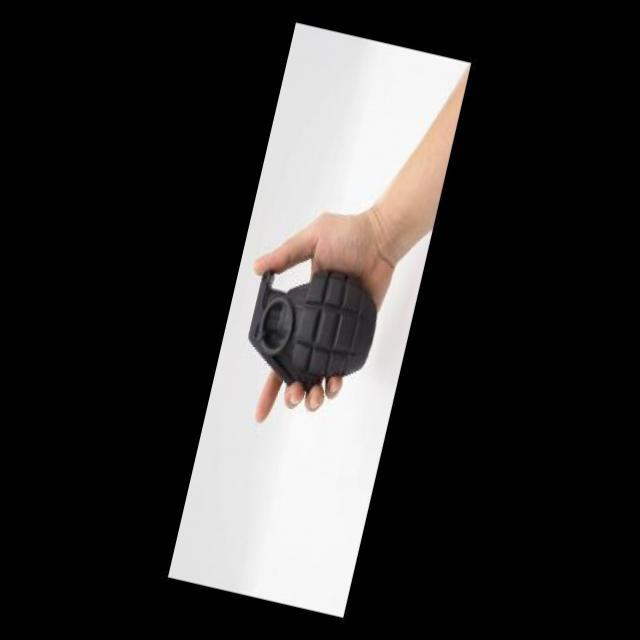grenade: (232, 250, 388, 400)
